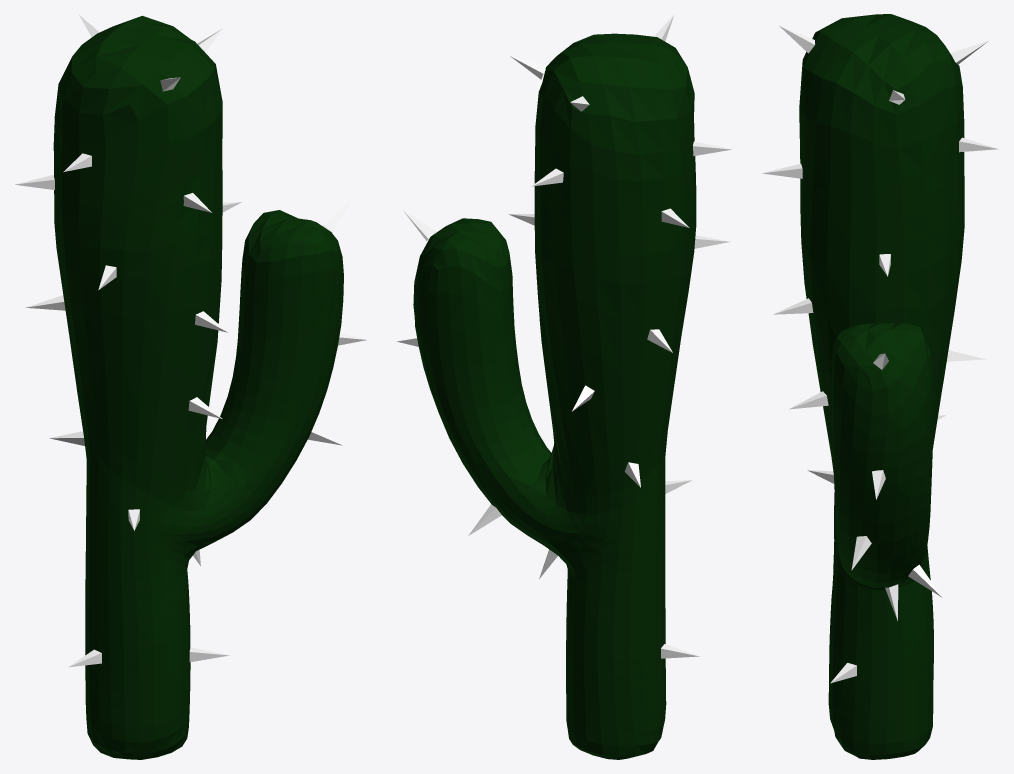
Rendered from Env_Cactus02.fbx.
The picture shows the model from 3 angles, left to right: view 1: azimuth 30°, elevation 25°; view 2: azimuth 150°, elevation 25°; view 3: azimuth 270°, elevation 25°; orthographic projection. The views are drawn at different scales.
Visible parts, largest first — view 1: geo1; view 2: geo1; view 3: geo1.
Part boxes in pixels (box(x1,y1,x2,y2)): geo1: box(15, 14, 366, 759); geo1: box(397, 14, 731, 759); geo1: box(762, 14, 998, 759).
Bounding box in the file's own units: 786 × 1642 × 492.
